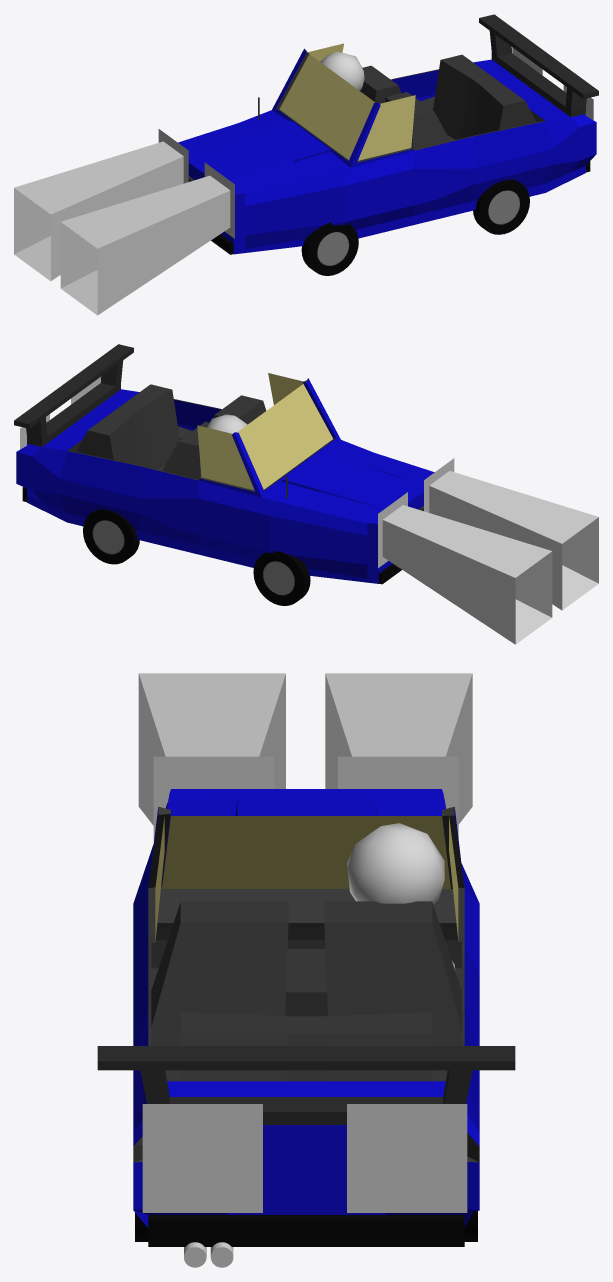
The model's file is Car_Conv.fbx.
The picture shows the model from 3 angles, top to bottom: view 1: azimuth 30°, elevation 25°; view 2: azimuth 150°, elevation 25°; view 3: azimuth 270°, elevation 25°; orthographic projection. The views are drawn at different scales.
Parts seen in each view (by area): view 1: Car_02, Headlight, Rear Wheels, Front Wheels, Human; view 2: Car_02, Headlight, Front Wheels, Rear Wheels, Human; view 3: Car_02, Headlight, Human.
Part boxes in pixels (x1,y1,x2,y2): Car_02: (178,14,598,254); Headlight: (14,47,593,315); Rear Wheels: (473,179,529,234); Front Wheels: (301,222,358,275); Human: (320,51,364,90); Car_02: (14,344,434,584); Headlight: (20,376,598,644); Front Wheels: (253,551,310,605); Rear Wheels: (83,509,139,564); Human: (207,414,247,433); Car_02: (97,789,515,1267); Headlight: (138,673,472,1212); Human: (347,823,455,970).
Size of the model in its own units: 13.02 by 3.89 by 4.71.
18 materials, 2 textured.
